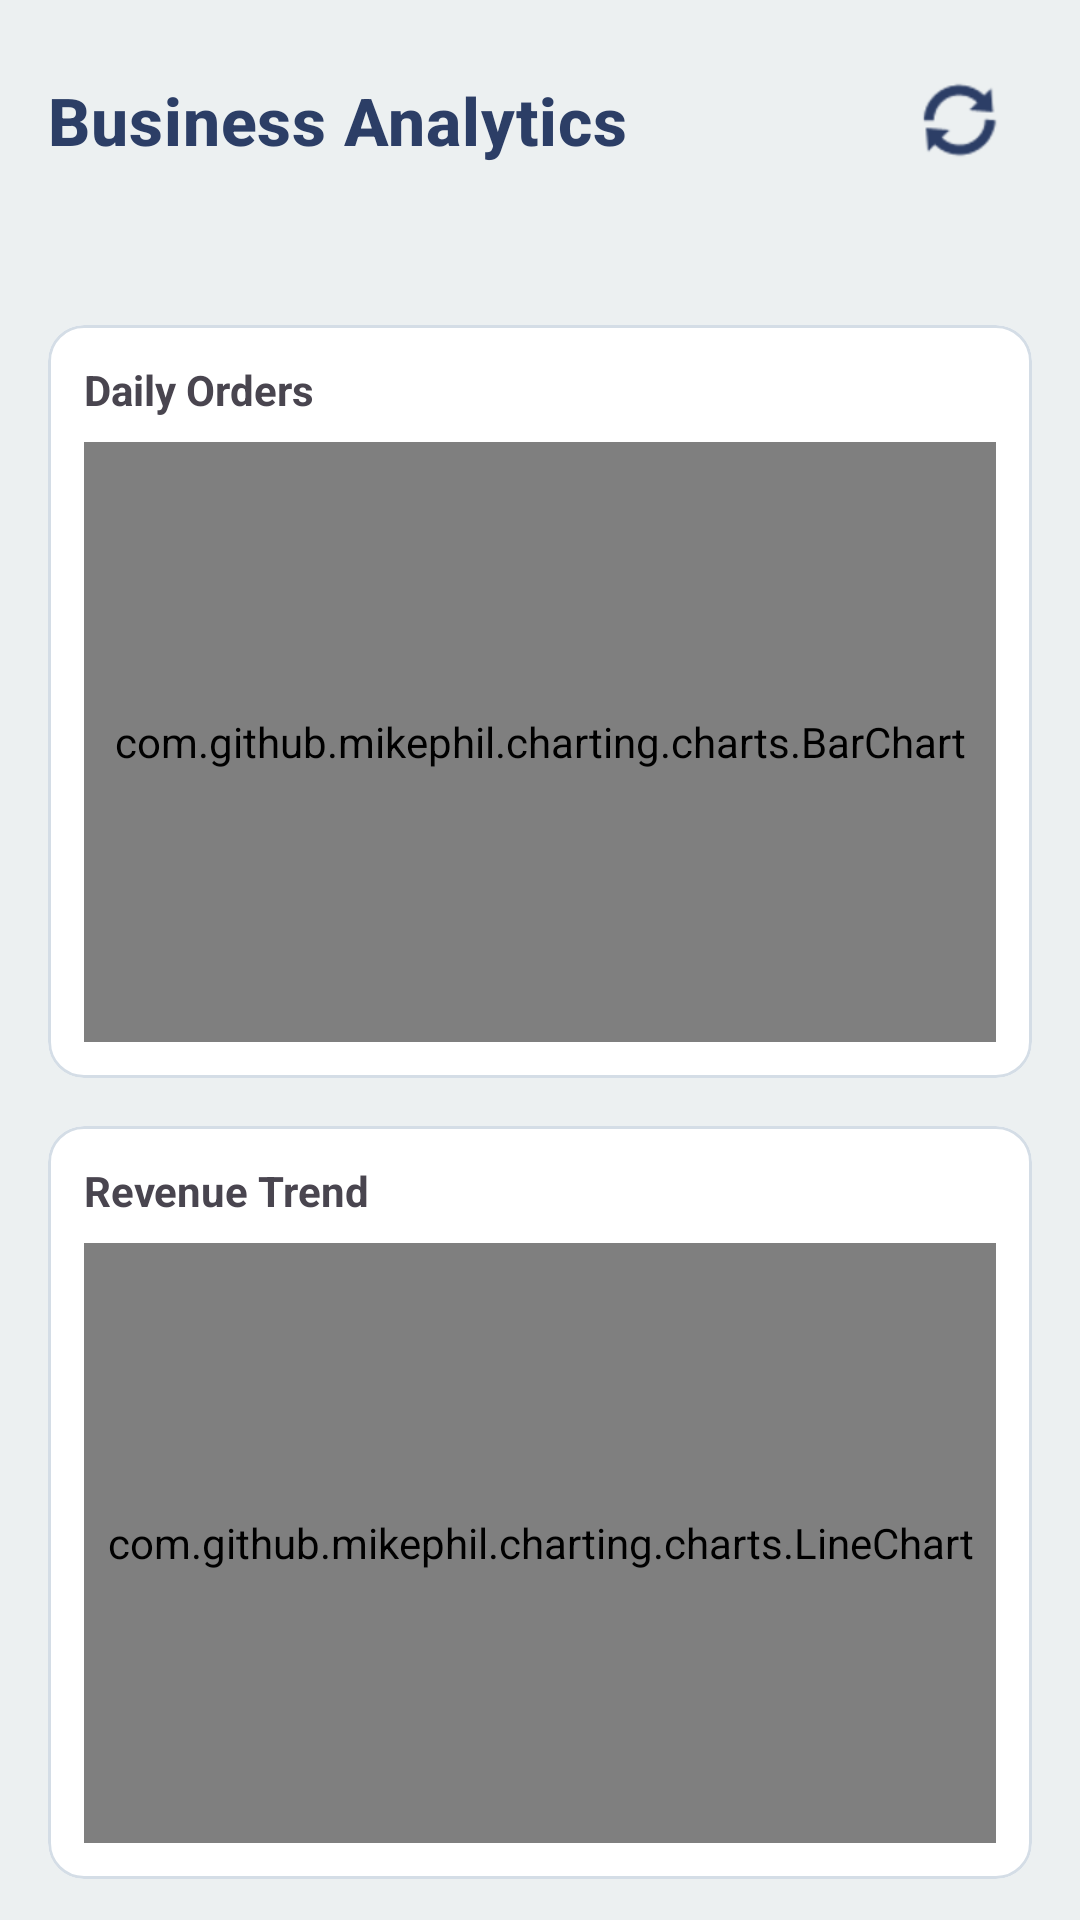

Named icons in this screenshot (1080w x 1920h) and their bounding boxes, bbox(x1, y1, x2, y2):
popup sync: bbox(923, 84, 996, 156)
